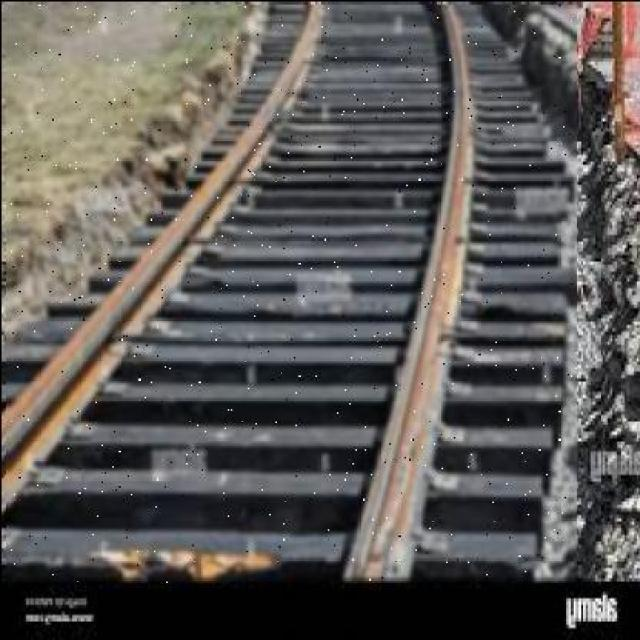rail: (6, 4, 574, 582)
